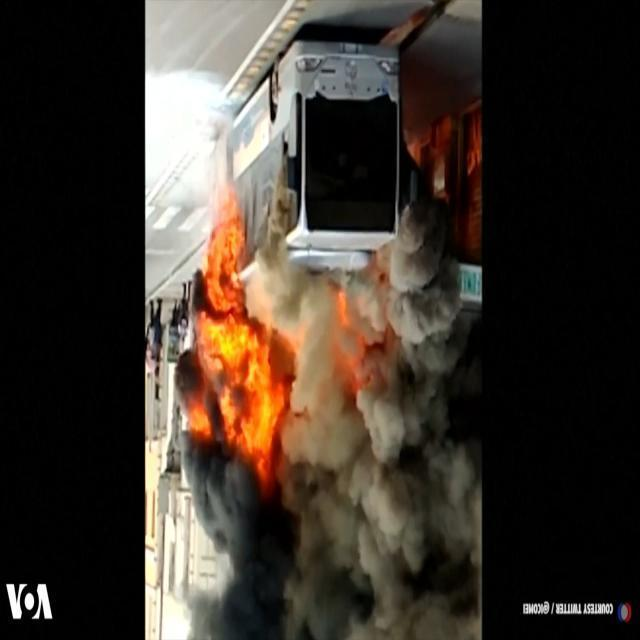fire: (180, 217, 381, 490)
